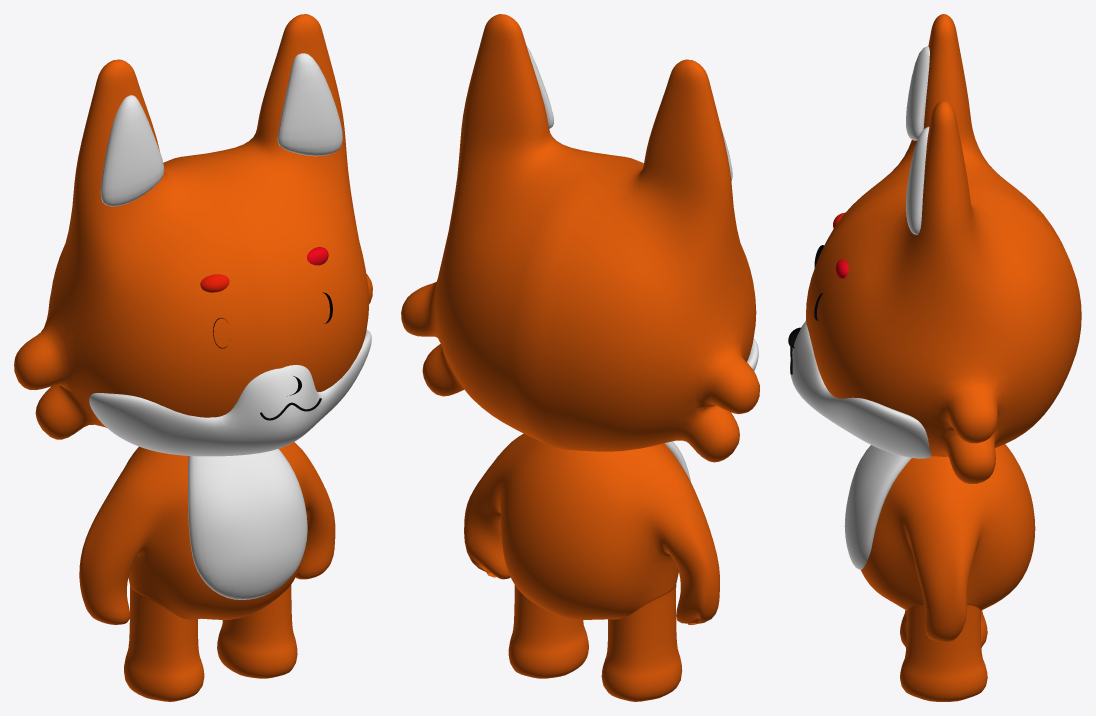
File: anime2.glb
3 views of the same model, side by side, from view 1: azimuth 30°, elevation 25°; view 2: azimuth 150°, elevation 25°; view 3: azimuth 270°, elevation 25° (orthographic). The views are drawn at different scales.
Parts seen in each view (by area): view 1: Cube.004; view 2: Cube.004; view 3: Cube.004.
Part boxes in pixels (x1,y1,x2,y2): Cube.004: (14,14,372,701); Cube.004: (401,14,759,701); Cube.004: (788,14,1081,701).
Size of the model in its own units: 1.7 by 2.95 by 1.29.
